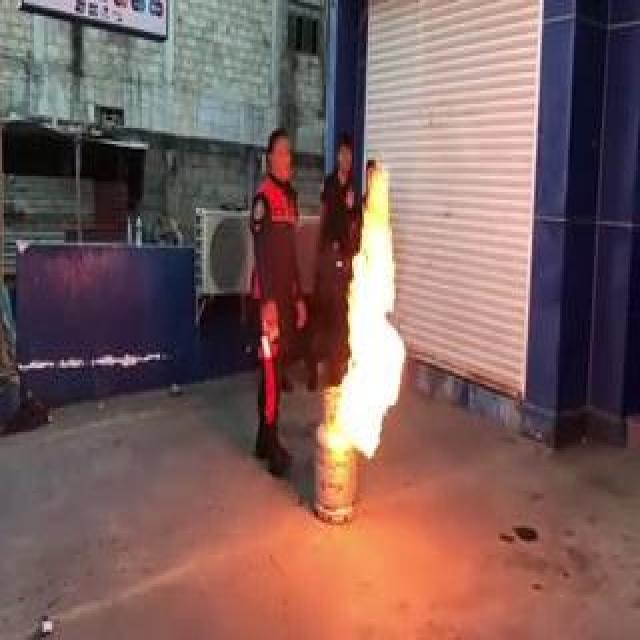fire: (338, 172, 401, 456)
